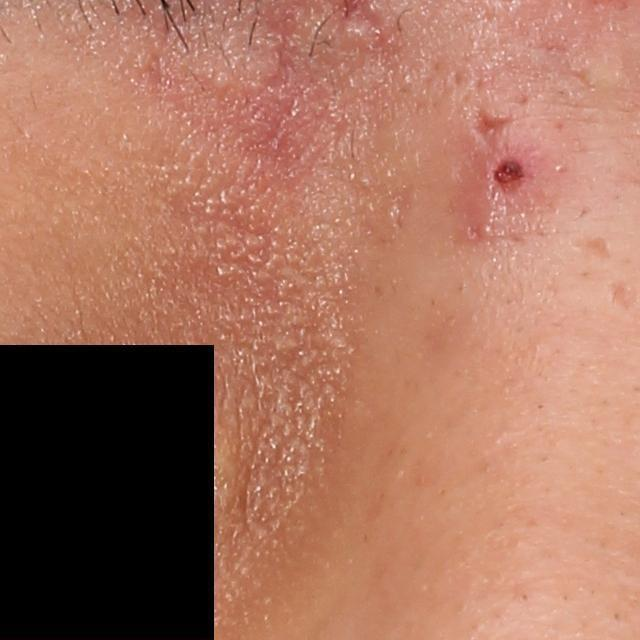atrophic_scar: (559, 232, 615, 264), (468, 103, 513, 139)
comedo: (210, 69, 230, 88)
papule: (461, 139, 557, 227)
